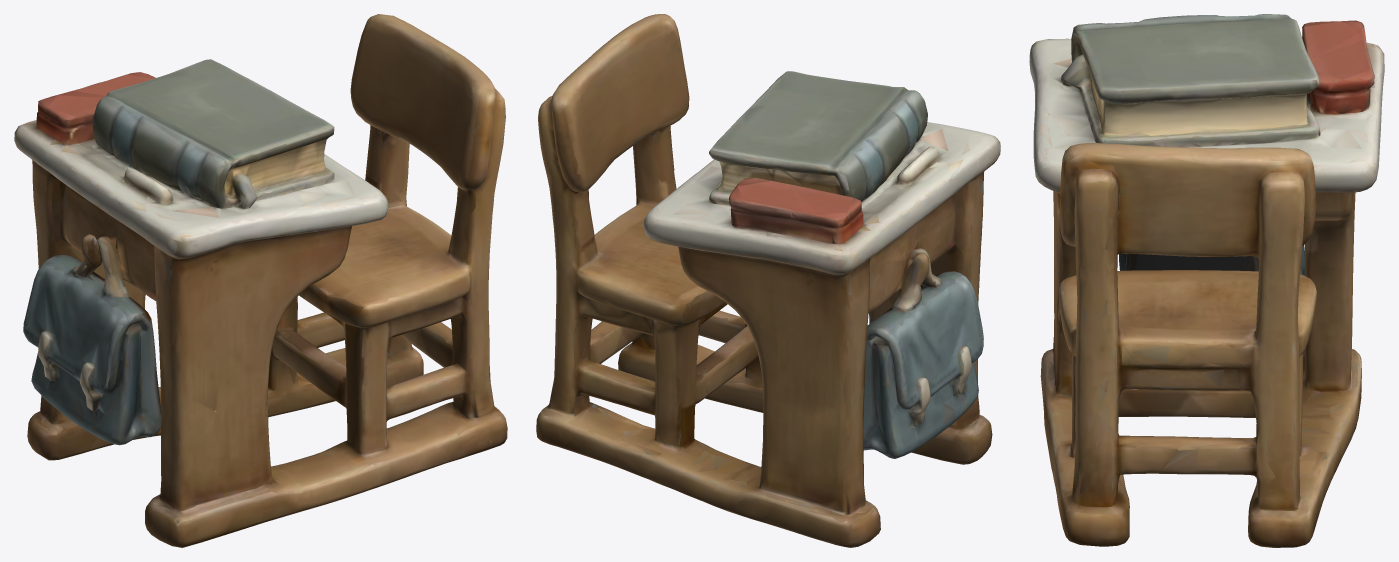
File: sc-chalk-desk.glb
The picture shows the model from 3 angles, left to right: view 1: azimuth 30°, elevation 25°; view 2: azimuth 150°, elevation 25°; view 3: azimuth 270°, elevation 25°; orthographic projection. The views are drawn at different scales.
Parts seen in each view (by area): view 1: geometry_0; view 2: geometry_0; view 3: geometry_0.
Part boxes in pixels (<box>): geometry_0: <box>14,14,507,547</box>; geometry_0: <box>536,14,1000,547</box>; geometry_0: <box>1029,14,1384,547</box>.
Size of the model in its own units: 1 by 0.9516 by 0.7516.
1 material, 1 textured.
